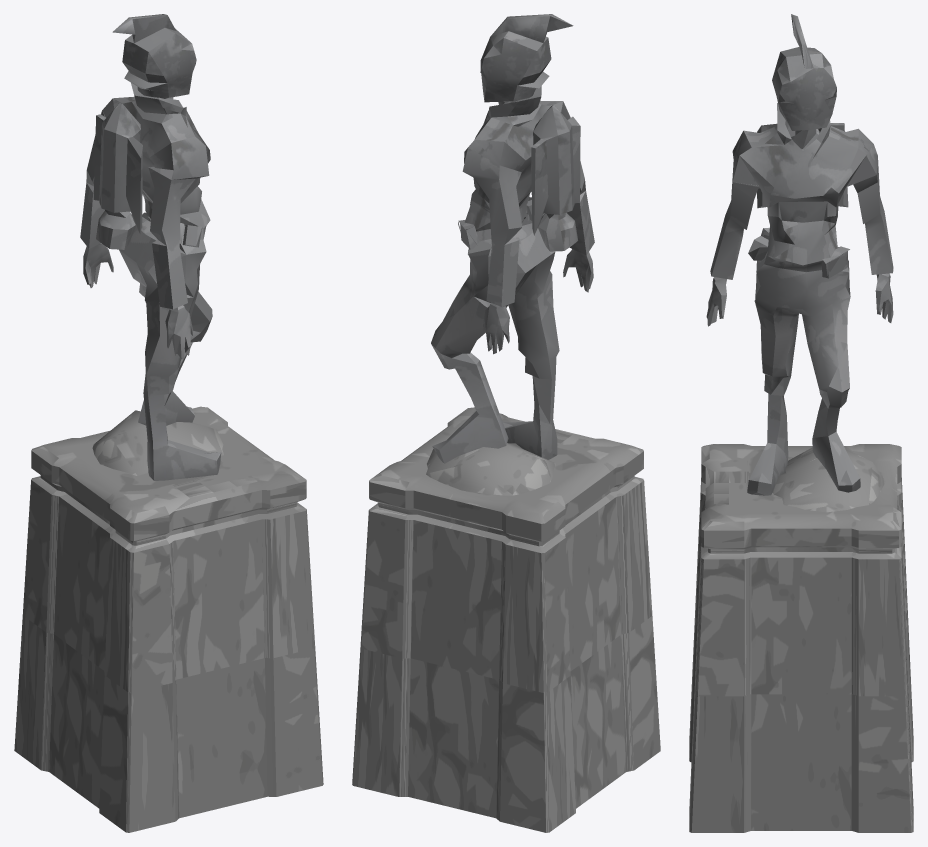
The model's file is prop_statue.FBX.
3 renders of one model, left to right at view 1: azimuth 30°, elevation 25°; view 2: azimuth 150°, elevation 25°; view 3: azimuth 270°, elevation 25°, orthographic.
Visible parts, largest first — view 1: PropStatueCody; view 2: PropStatueCody; view 3: PropStatueCody.
Boxes of the visible parts, box(x1,y1,x2,y2) form: PropStatueCody: box(14, 14, 323, 832); PropStatueCody: box(352, 14, 660, 832); PropStatueCody: box(689, 14, 913, 832).
Bounding box in the file's own units: 0.9398 × 3.46 × 0.9398.
Materials: 2 (2 with a texture image).
